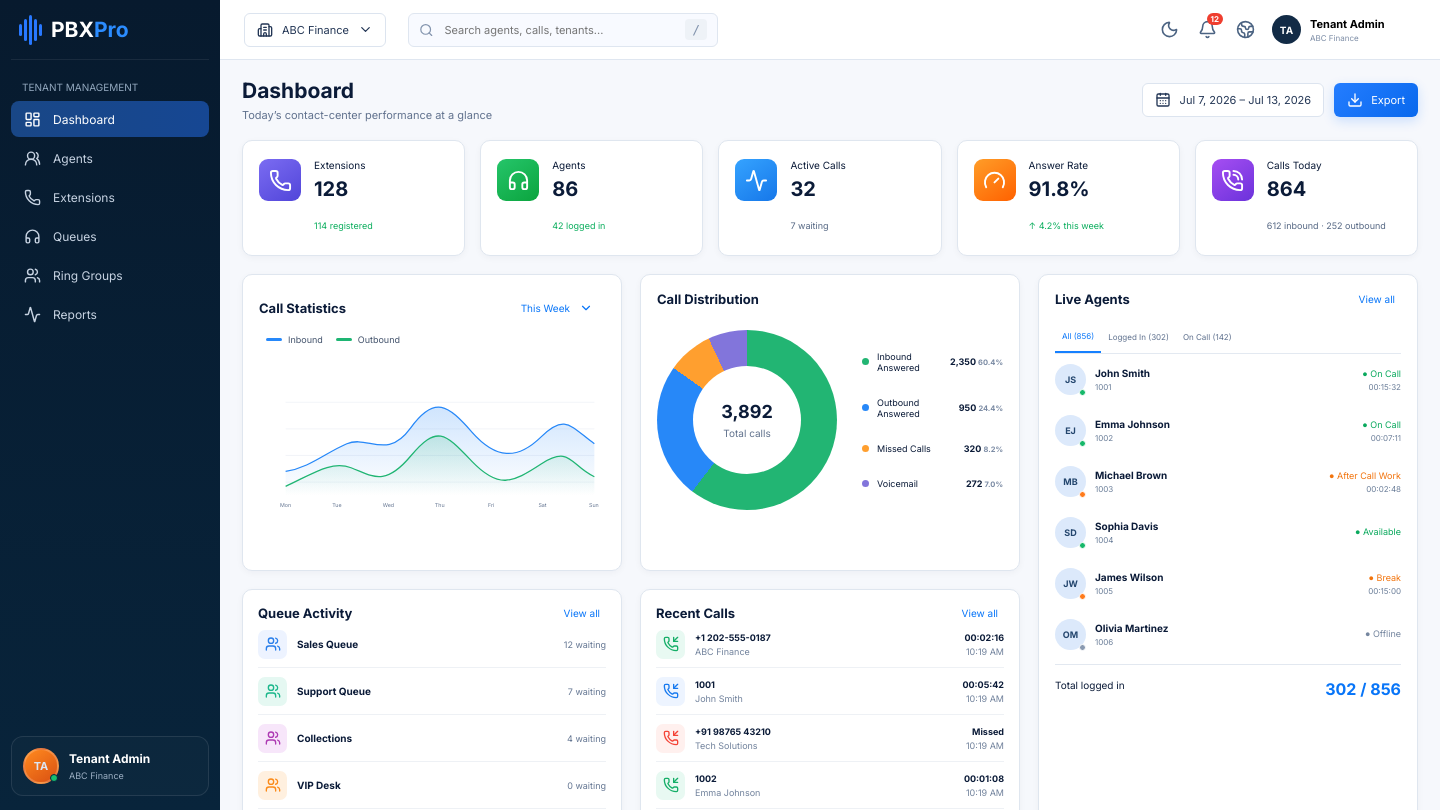
Tenant Admin provisioning › reveals an existing SIP password only after the admin requests it
This screenshot has width=1440, height=810.
Click the button "Extensions" at [110, 197], box [11,179,209,215]
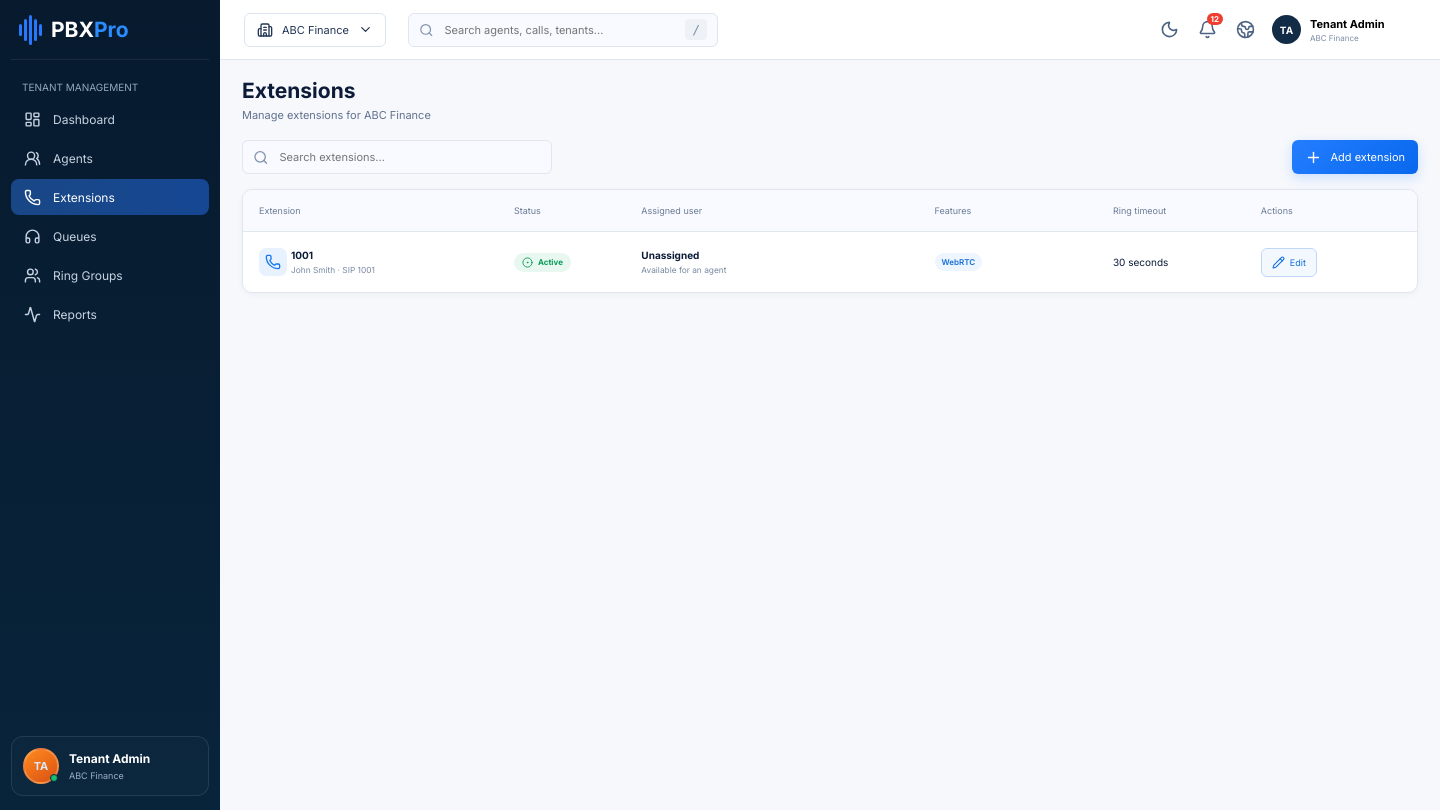
Click the button "Edit" at [1289, 262], box [1261,248,1317,276]
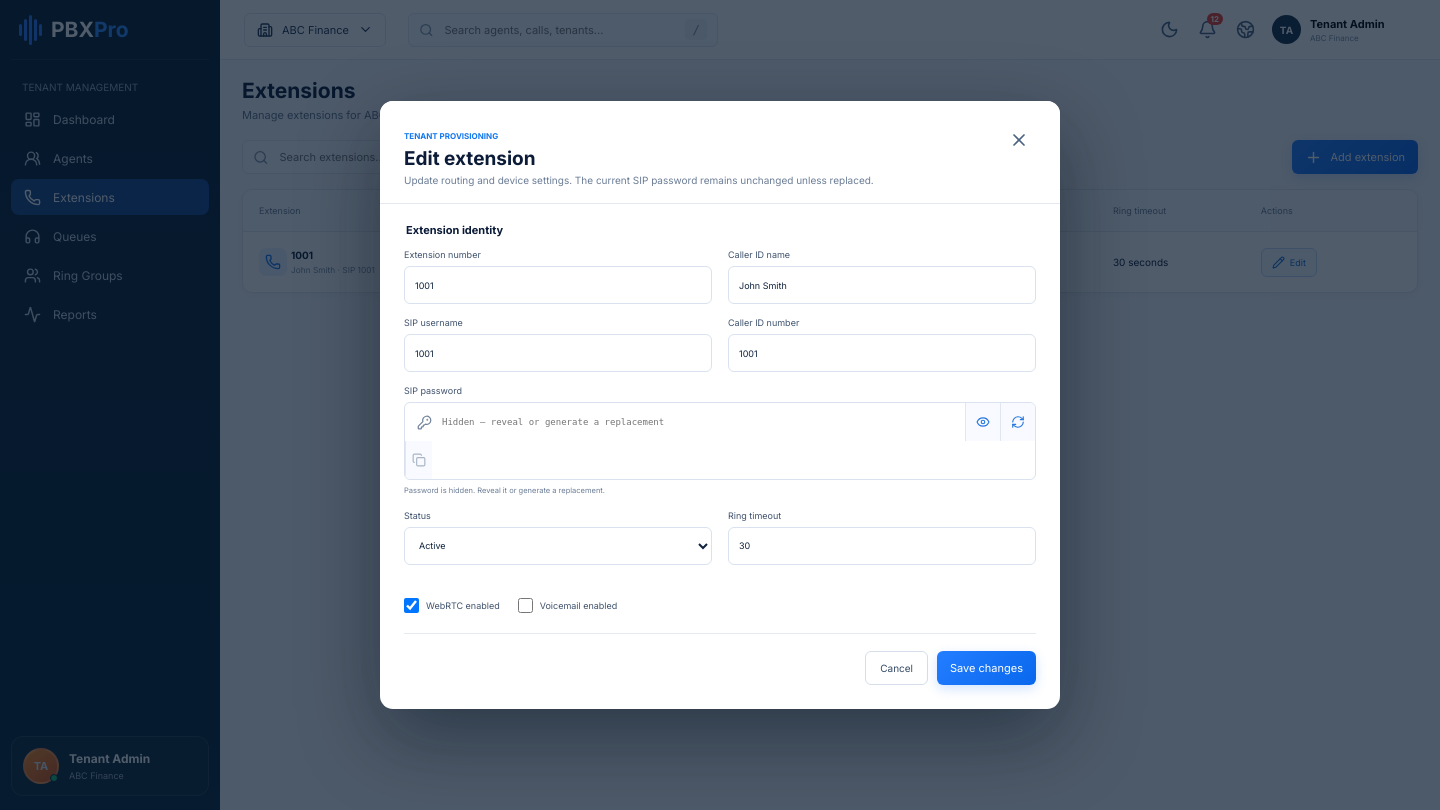
Click the button named "Reveal SIP password" at [982, 422], box [965,403,1000,441]
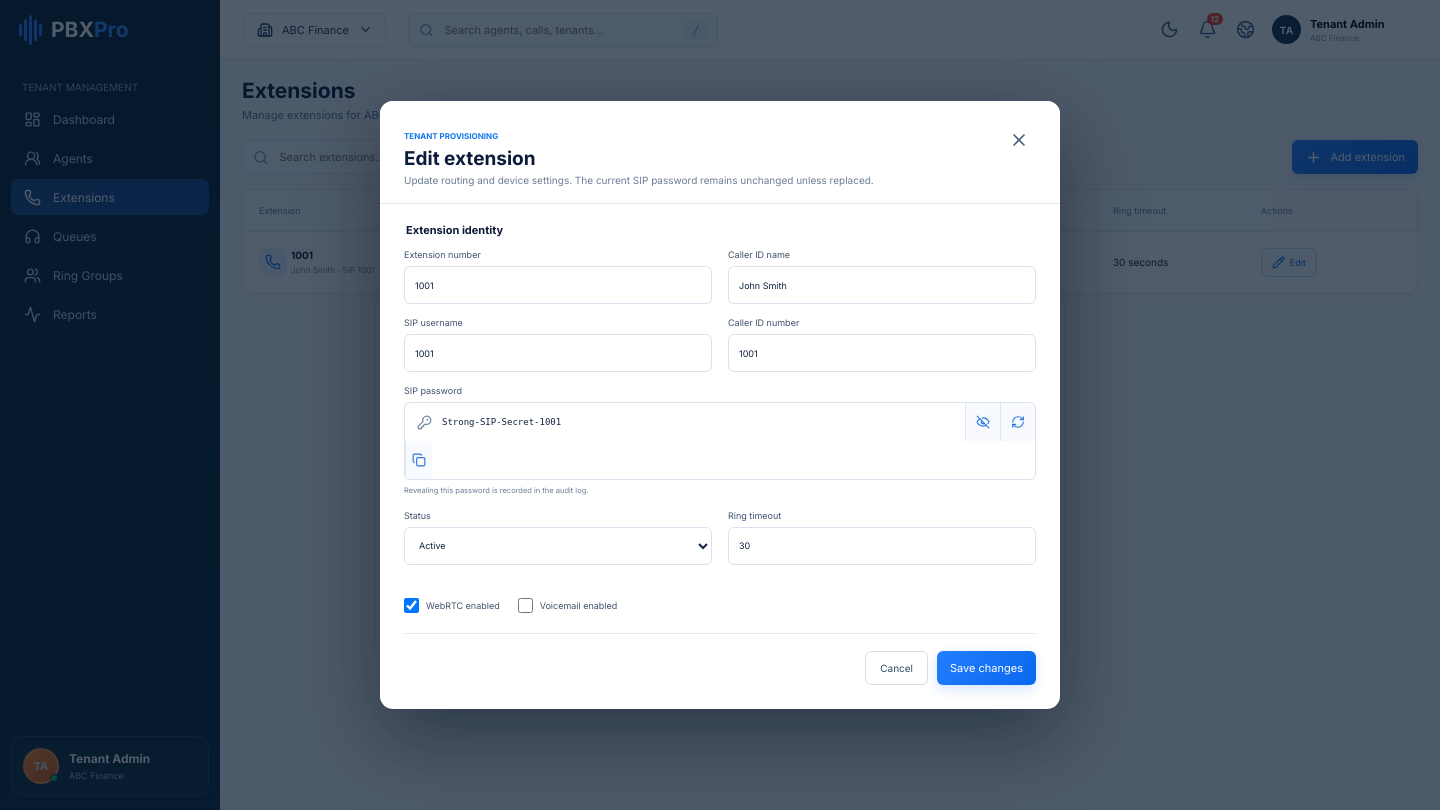
Now the field showing "Strong-SIP-Secret-1001" is shown, box [432,403,965,441]
